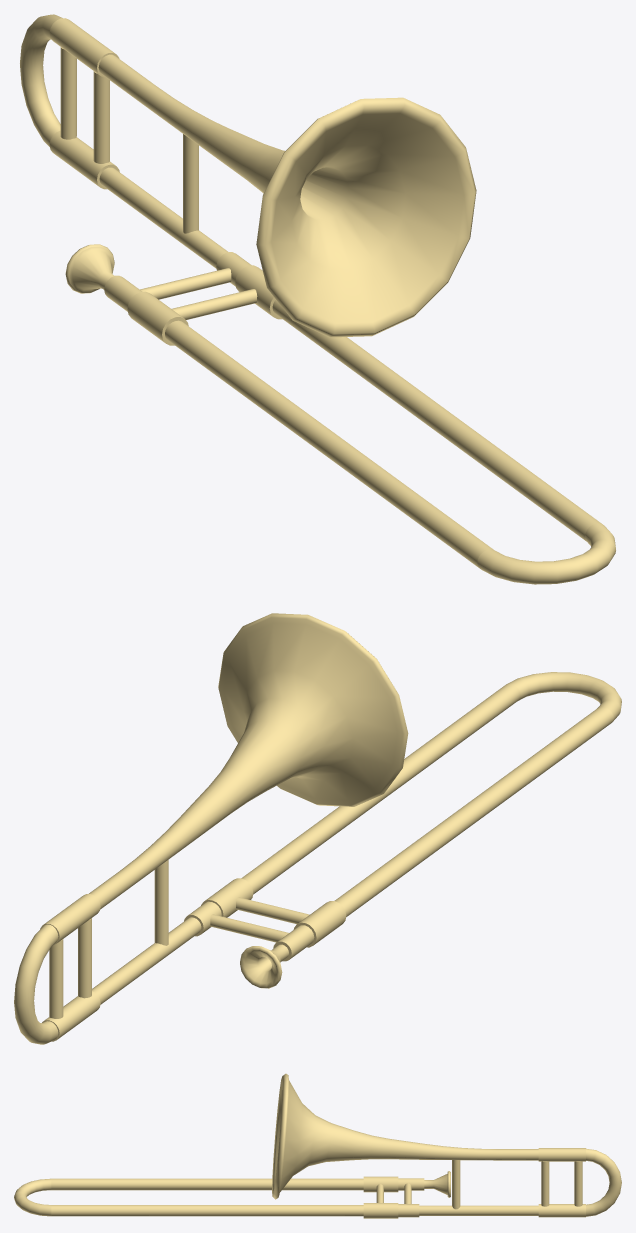
Rendered from SM_Trombone.fbx.
3 views of the same model, one above another, from view 1: azimuth 30°, elevation 25°; view 2: azimuth 150°, elevation 25°; view 3: azimuth 270°, elevation 25° (orthographic). The views are drawn at different scales.
Visible parts, largest first — view 1: pCylinder4, pTorus2, pTorus1, pCylinder10, pCylinder9, pCylinder6, pCylinder8, pCylinder7, pCylinder11, pCylinder12, pCylinder5; view 2: pCylinder4, pTorus2, pTorus1, pCylinder10, pCylinder8, pCylinder9, pCylinder7, pCylinder6, pCylinder11, pCylinder5, pCylinder12; view 3: pCylinder4, pTorus2, pTorus1, pCylinder10, pCylinder5, pCylinder9, pCylinder8, pCylinder7, pCylinder6, pCylinder3.
Part boxes in pixels (left/top/right/bottom): pCylinder4: left=49, top=18, right=476, bottom=337; pTorus2: left=165, top=300, right=615, bottom=584; pTorus1: left=20, top=14, right=62, bottom=146; pCylinder10: left=65, top=244, right=142, bottom=311; pCylinder9: left=127, top=291, right=188, bottom=345; pCylinder6: left=93, top=71, right=109, bottom=163; pCylinder8: left=183, top=134, right=198, bottom=233; pCylinder7: left=60, top=47, right=76, bottom=139; pCylinder11: left=140, top=268, right=231, bottom=299; pCylinder12: left=172, top=289, right=257, bottom=319; pCylinder5: left=235, top=265, right=282, bottom=319; pCylinder4: left=40, top=613, right=408, bottom=1041; pTorus2: left=241, top=672, right=621, bottom=916; pTorus1: left=14, top=924, right=58, bottom=1044; pCylinder10: left=240, top=925, right=314, bottom=988; pCylinder8: left=154, top=860, right=168, bottom=945; pCylinder9: left=293, top=901, right=346, bottom=947; pCylinder7: left=49, top=939, right=63, bottom=1018; pCylinder6: left=78, top=918, right=91, bottom=998; pCylinder11: left=210, top=914, right=288, bottom=942; pCylinder5: left=201, top=878, right=253, bottom=917; pCylinder12: left=236, top=897, right=309, bottom=924; pCylinder4: left=272, top=1073, right=585, bottom=1217; pTorus2: left=14, top=1178, right=363, bottom=1216; pTorus1: left=586, top=1148, right=621, bottom=1216; pCylinder10: left=398, top=1171, right=450, bottom=1197; pCylinder5: left=363, top=1203, right=398, bottom=1218; pCylinder9: left=363, top=1176, right=398, bottom=1192; pCylinder8: left=452, top=1160, right=460, bottom=1209; pCylinder7: left=574, top=1161, right=582, bottom=1206; pCylinder6: left=541, top=1161, right=549, bottom=1206; pCylinder3: left=398, top=1204, right=419, bottom=1217.
Size of the model in its own units: 9.85 by 11.14 by 42.76.
